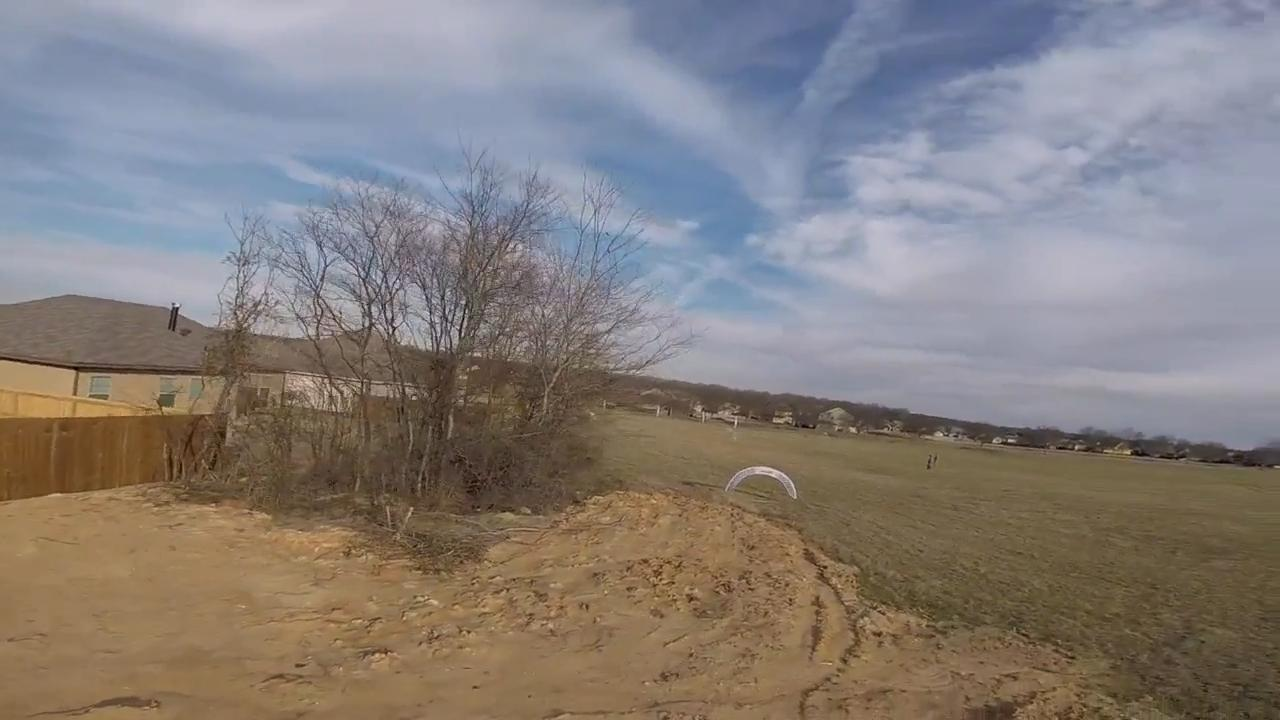gate: (728, 462, 801, 505)
